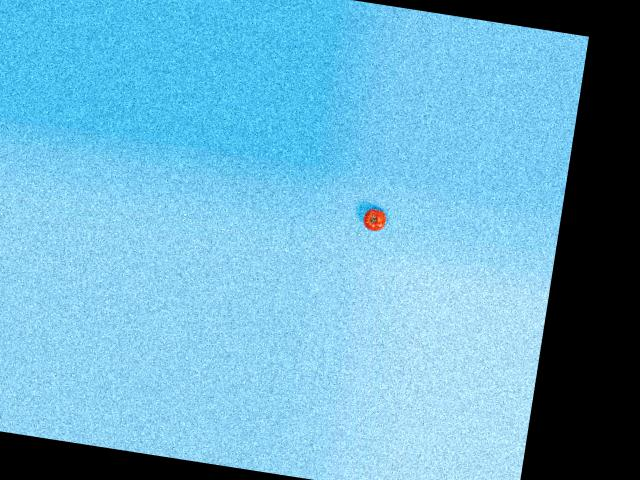tomato: (360, 207, 386, 232)
